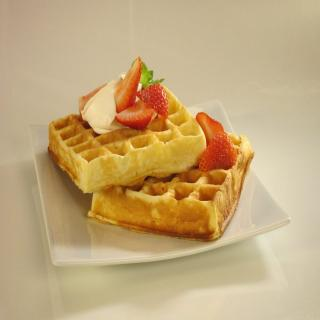Waffle: (84, 131, 255, 241), (47, 85, 206, 193)
